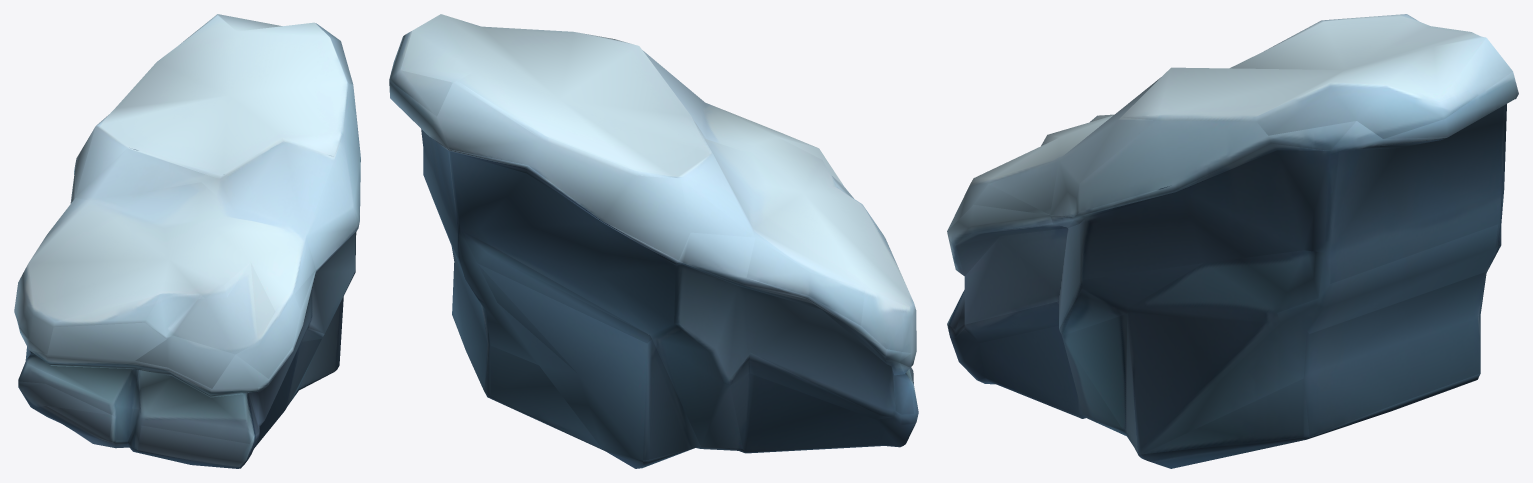
3 views of the same model, side by side, from view 1: azimuth 30°, elevation 25°; view 2: azimuth 150°, elevation 25°; view 3: azimuth 270°, elevation 25° (orthographic). The views are drawn at different scales.
Visible parts, largest first — view 1: glacier-rock-2; view 2: glacier-rock-2; view 3: glacier-rock-2.
Part boxes in pixels (left/top/right/bottom): glacier-rock-2: left=14, top=14, right=360, bottom=468; glacier-rock-2: left=389, top=14, right=918, bottom=468; glacier-rock-2: left=947, top=14, right=1518, bottom=468.
Size of the model in its own units: 0.2848 by 0.2309 by 0.2594.
1 material, 1 textured.
